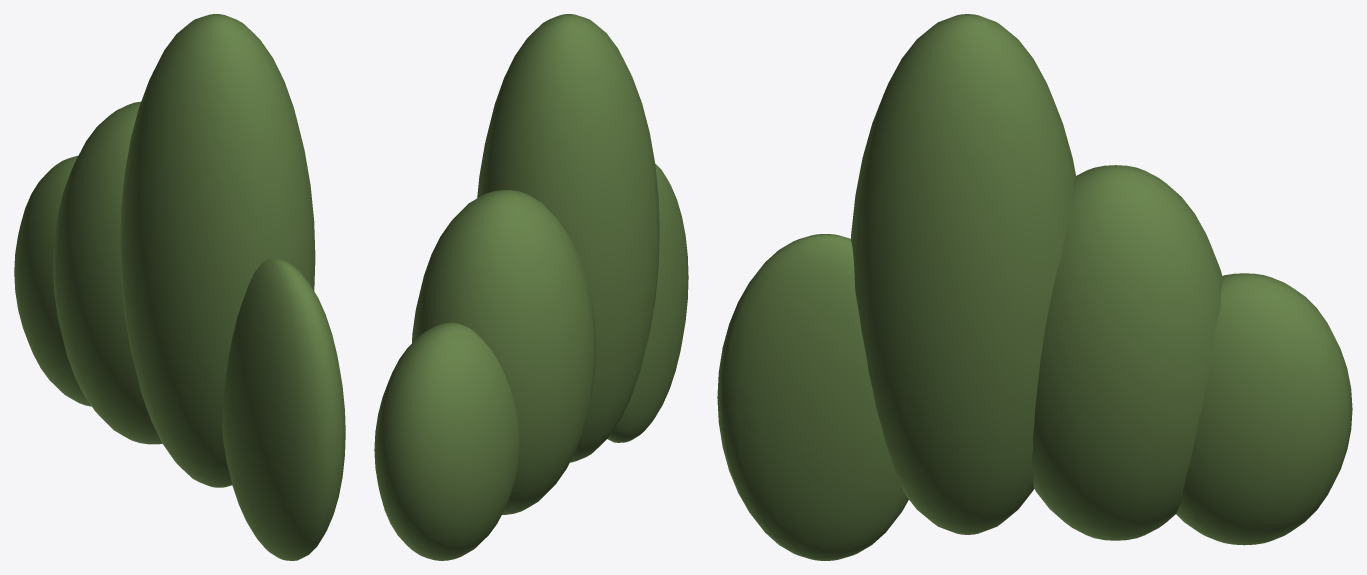
The model's file is shrub3.fbx.
3 renders of one model, left to right at view 1: azimuth 30°, elevation 25°; view 2: azimuth 150°, elevation 25°; view 3: azimuth 270°, elevation 25°, orthographic. The views are drawn at different scales.
Visible parts, largest first — view 1: bushy4; view 2: bushy4; view 3: bushy4.
Part boxes in pixels (bbox=[...]): bushy4: bbox=[14, 14, 345, 560]; bushy4: bbox=[374, 14, 688, 560]; bushy4: bbox=[717, 14, 1352, 560].
Bounding box in the file's own units: 1.19 × 3.43 × 3.64.
